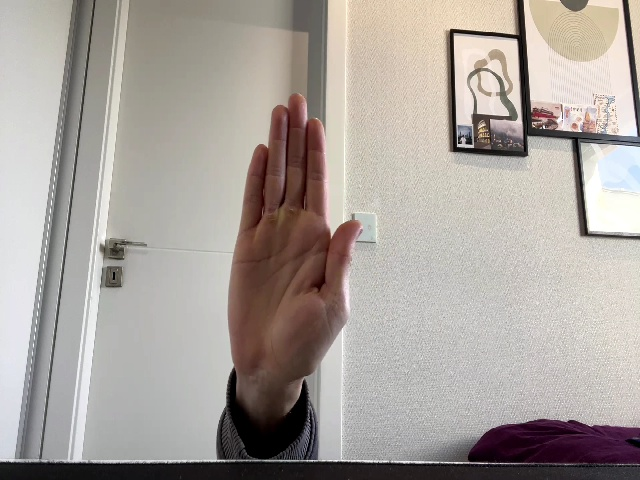B: (228, 93, 363, 381)
